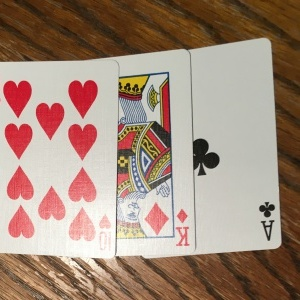card: (188, 37, 282, 253), (114, 49, 198, 254)
